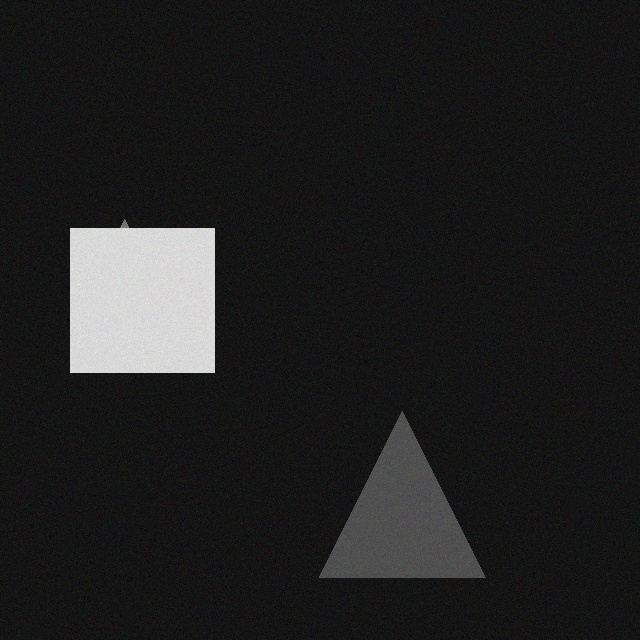square: (76, 231, 220, 375)
triangle: (325, 414, 491, 580), (92, 222, 169, 299)
